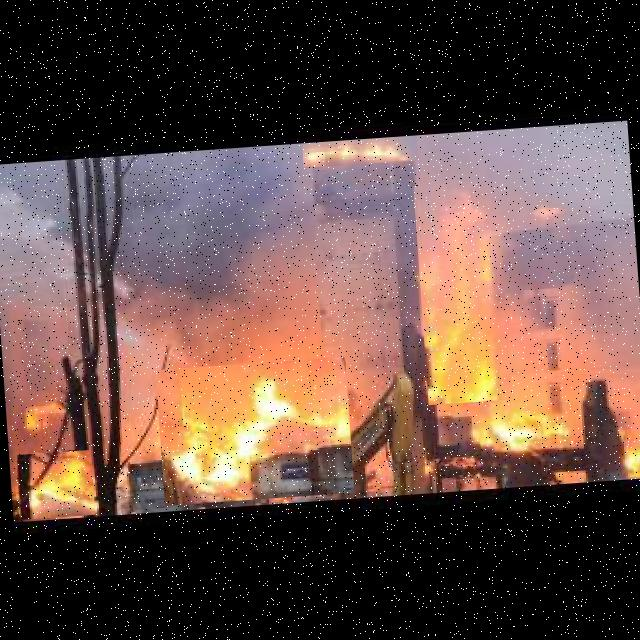fire: (155, 356, 354, 506), (413, 180, 512, 404), (478, 400, 584, 459), (16, 450, 95, 520), (302, 135, 418, 168)
